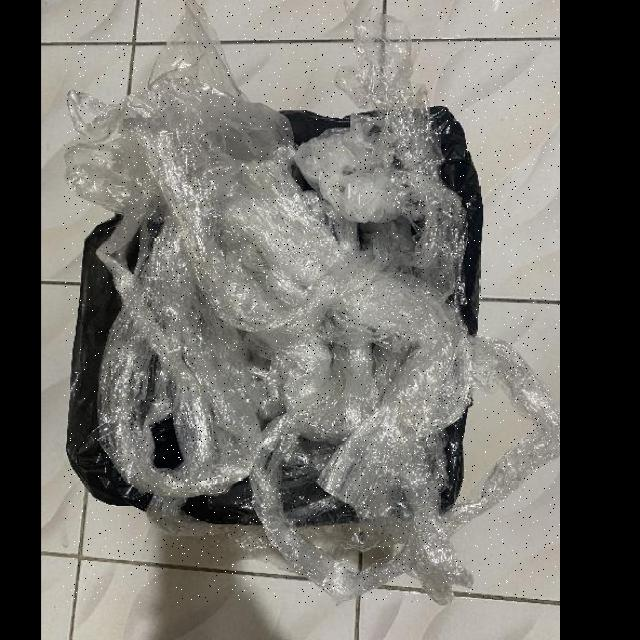plastic: (64, 0, 560, 603), (149, 416, 181, 471)
